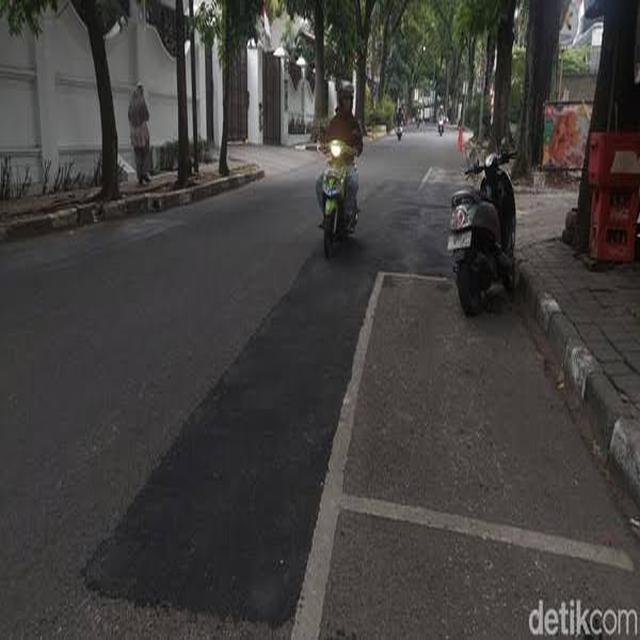Sambungan: (82, 182, 458, 617)
